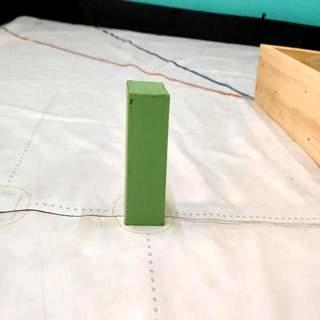greenbox: (124, 77, 170, 226)
